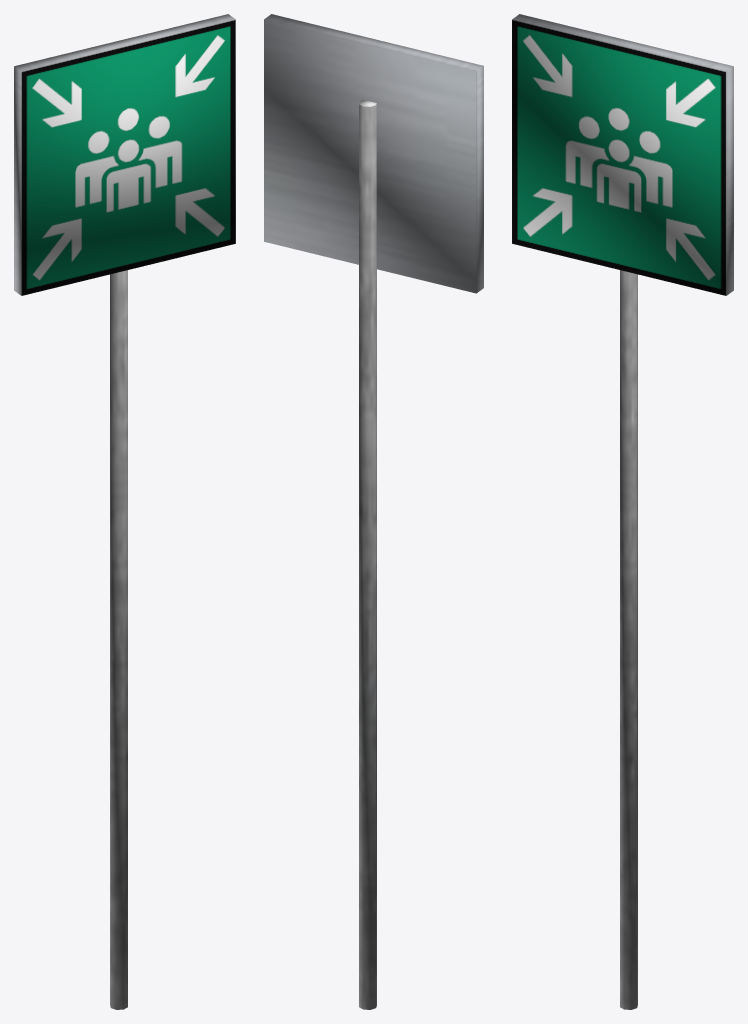
The model's file is Sign.fbx.
The picture shows the model from 3 angles, left to right: view 1: azimuth 30°, elevation 25°; view 2: azimuth 150°, elevation 25°; view 3: azimuth 330°, elevation 25°; orthographic projection.
Visible parts, largest first — view 1: Cylinder; view 2: Cylinder; view 3: Cylinder.
Part boxes in pixels (box(x1,y1,x2,y2)): Cylinder: box(14, 14, 235, 1009); Cylinder: box(264, 14, 483, 1009); Cylinder: box(512, 14, 733, 1009).
Bounding box in the file's own units: 1.66 × 7.18 × 0.1936.
1 material, 1 textured.
